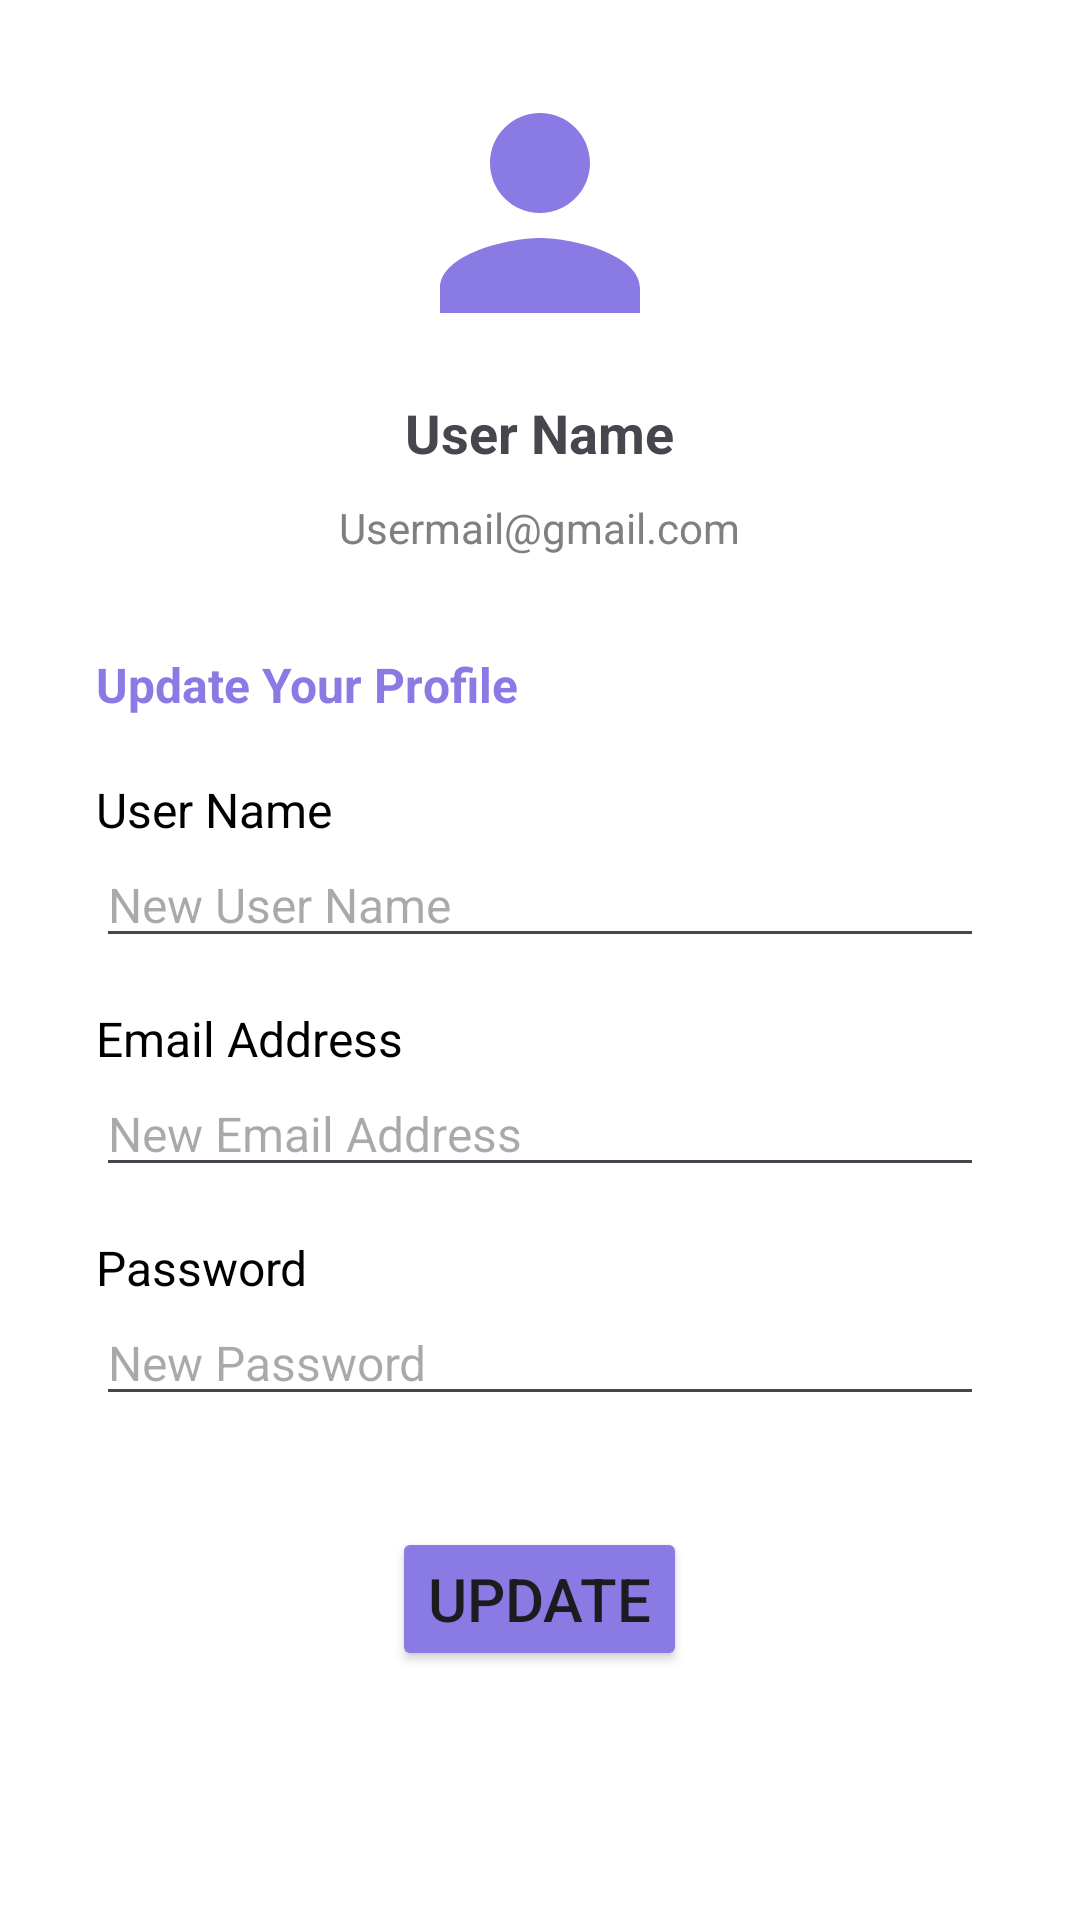

Where icons sit on this 1080 x 1920 app screen, as [x1,y1,x2,y2]:
profile: [440,113,640,313]
